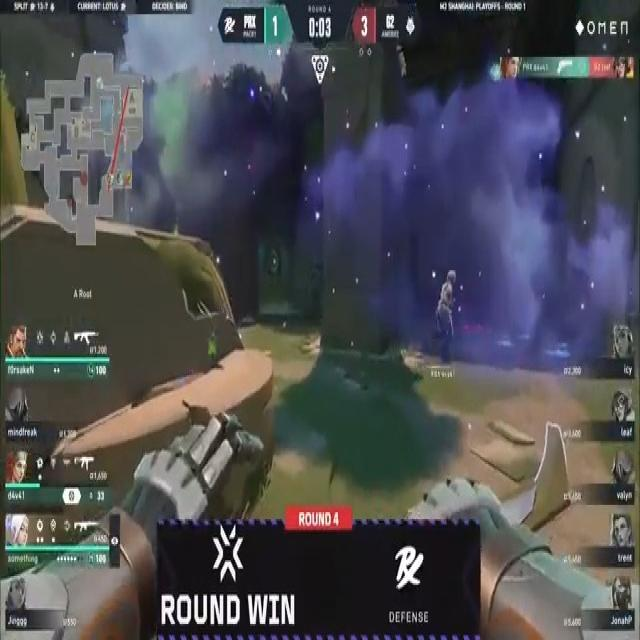ally: (436, 255, 460, 364)
